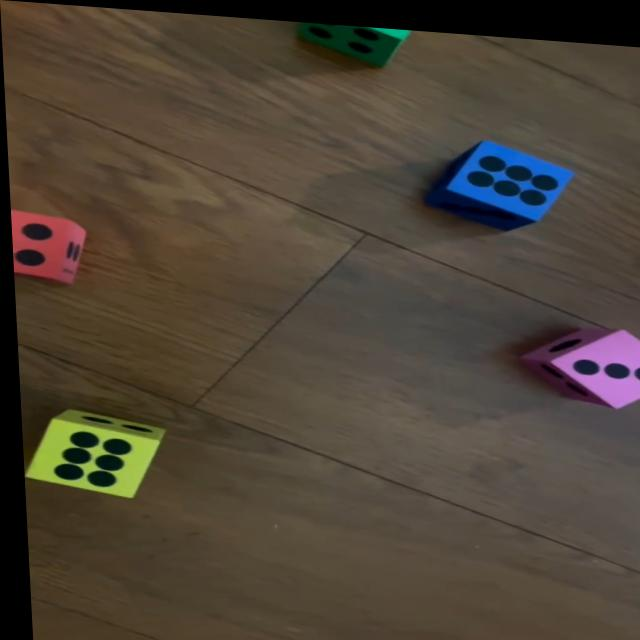cube: (426, 129, 574, 227), (8, 208, 85, 287), (300, 17, 415, 64)
